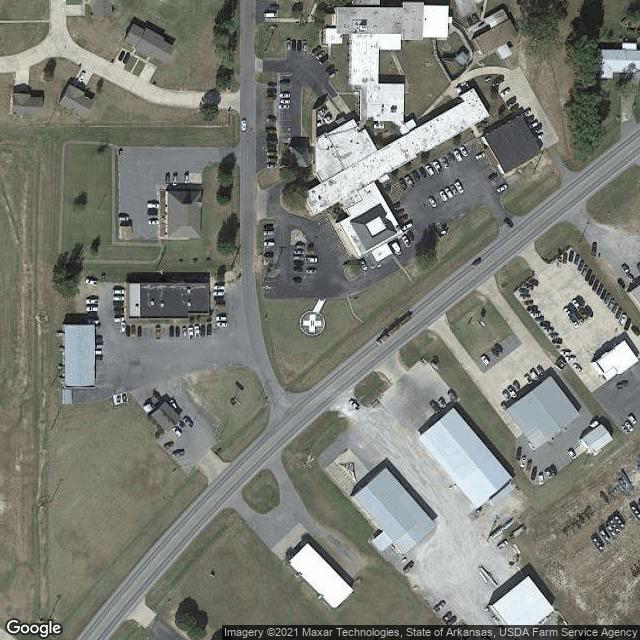Helipad: (296, 308, 328, 337)
